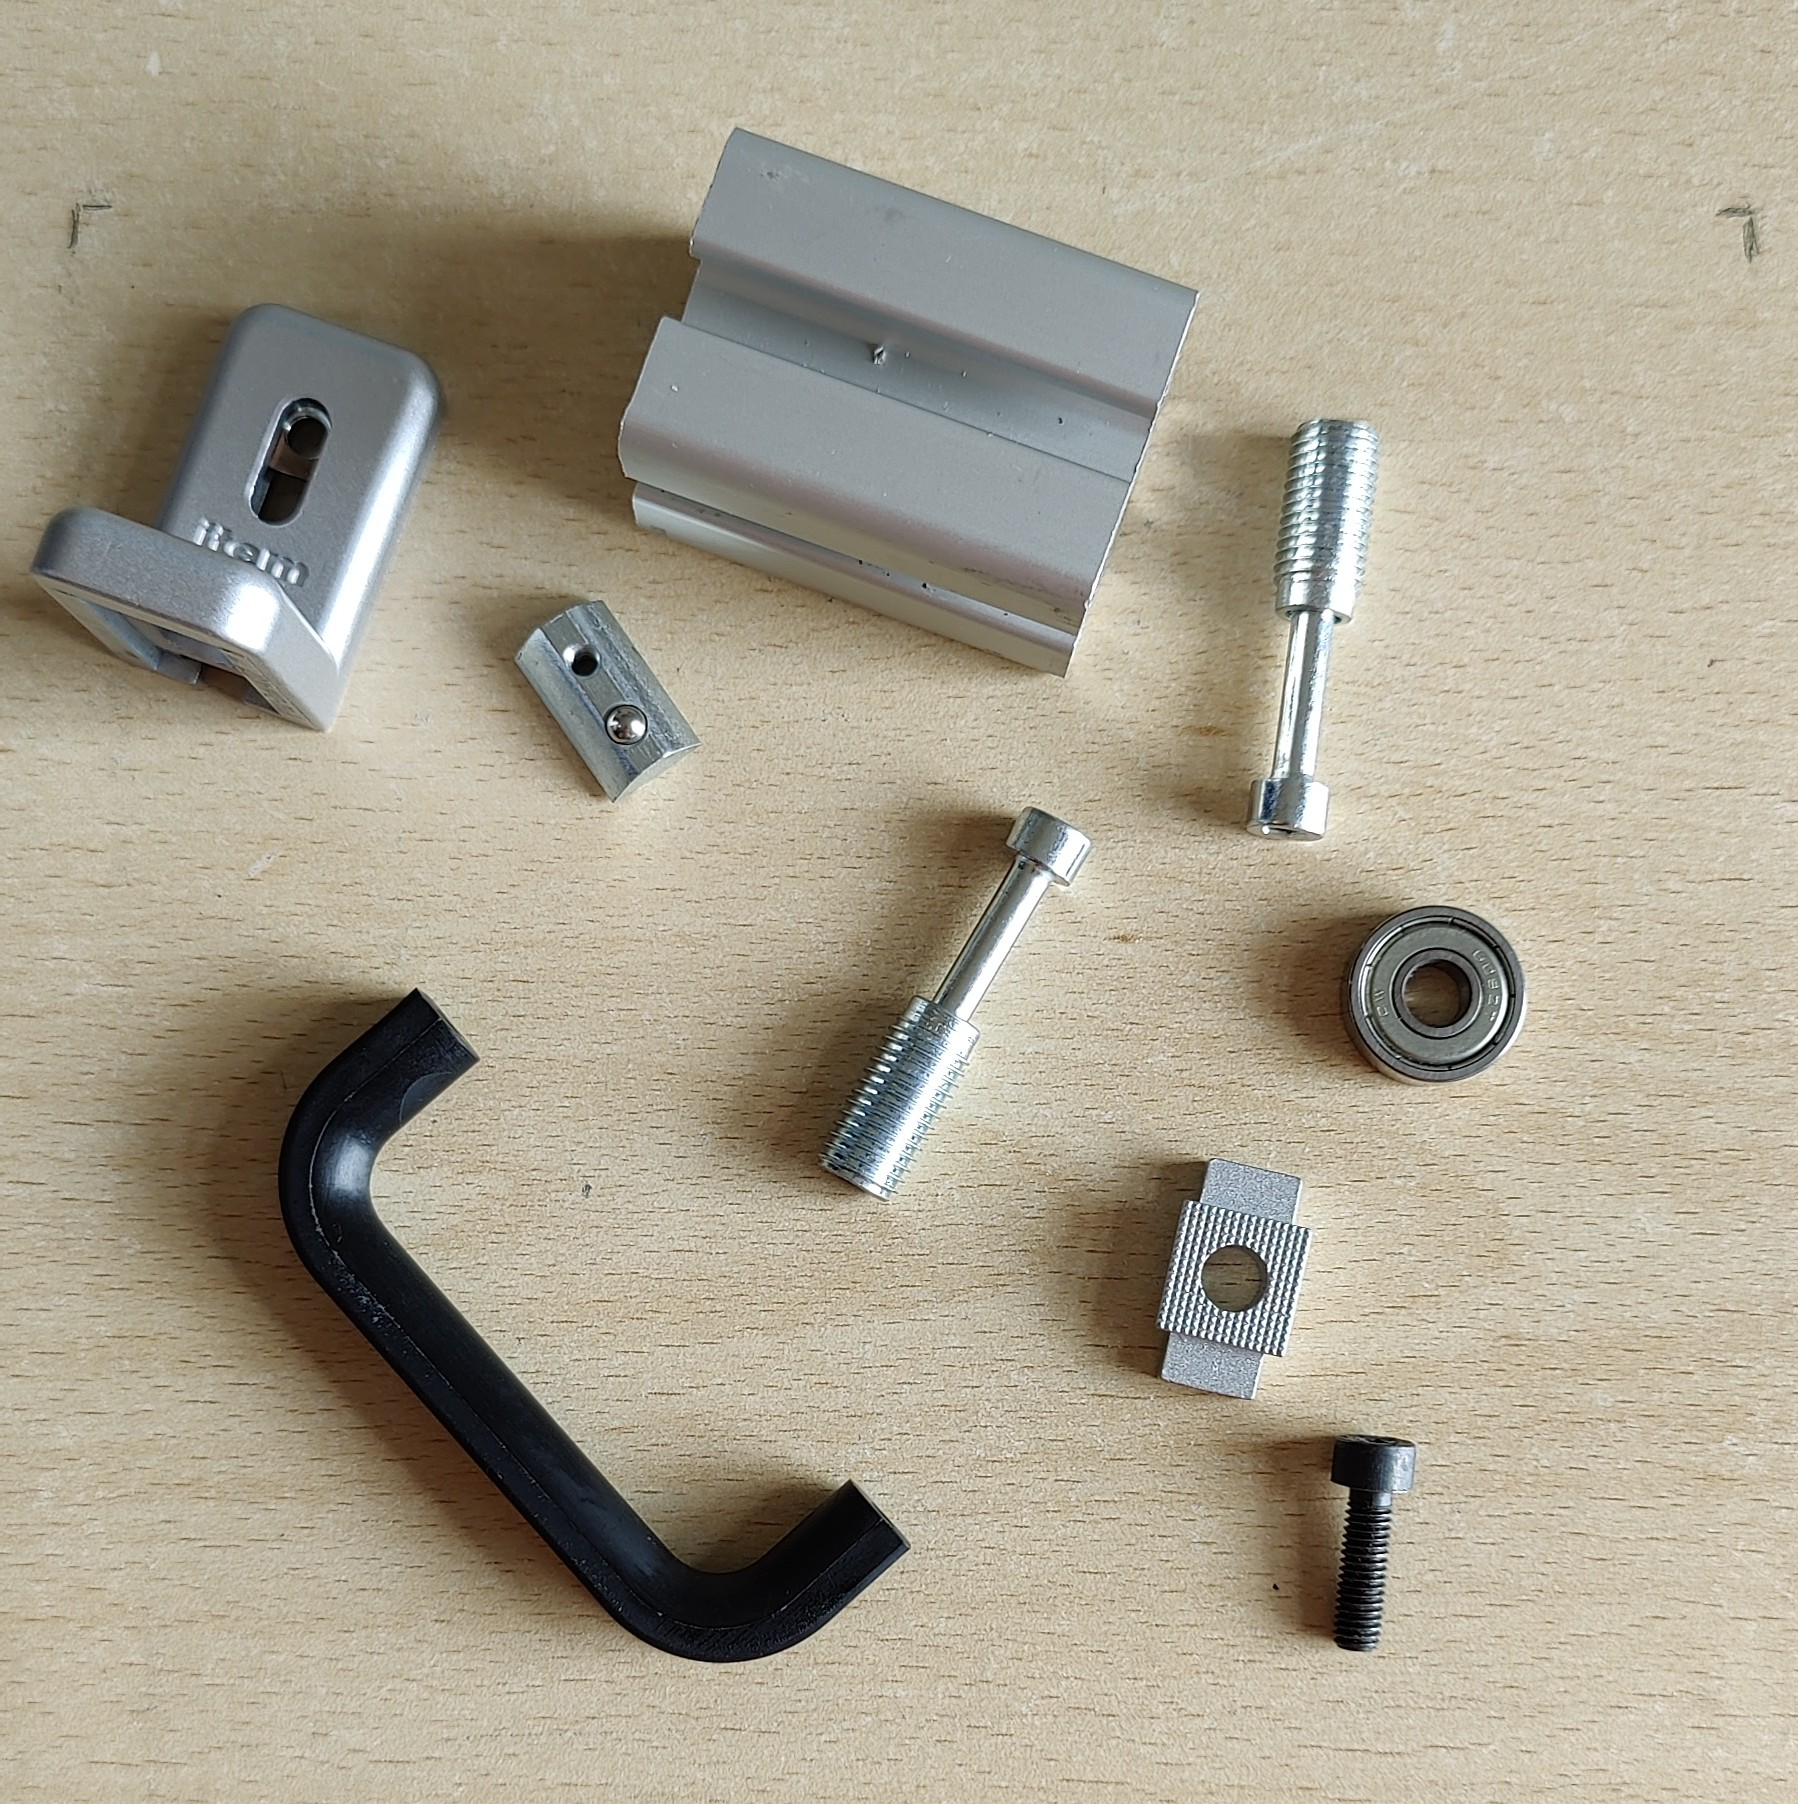Aluminium Extension: (616, 127, 1202, 681)
Ball Bearing: (1337, 904, 1528, 1088)
Multiwinkel: (28, 301, 446, 736)
Pull Handle: (275, 984, 914, 1666)
Shoulder Socket Head Cap Screw: (815, 807, 1093, 1203), (1241, 416, 1381, 846)
Socket Head Cap Screw: (1329, 1429, 1419, 1654)
T Nut Square: (1153, 1159, 1311, 1404)
T Spring Nut: (510, 597, 706, 813)
